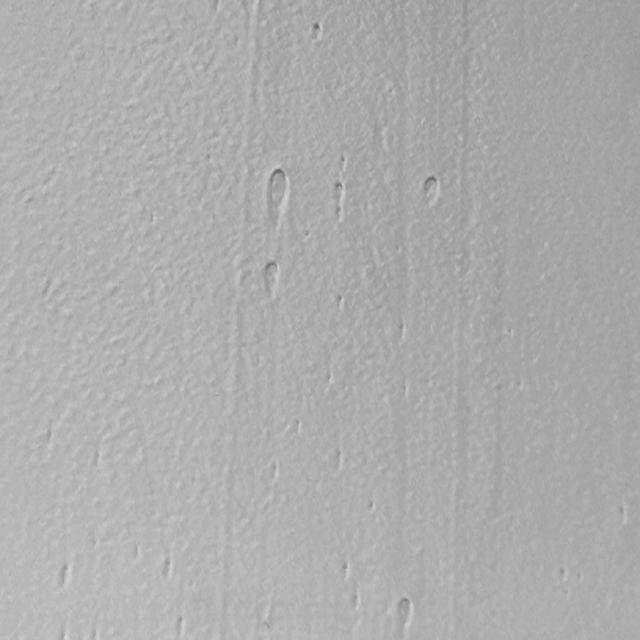pin holes: (264, 169, 291, 215), (392, 595, 415, 632), (260, 258, 282, 296), (326, 180, 346, 218), (420, 175, 443, 207), (55, 564, 75, 592), (615, 502, 634, 527), (330, 447, 348, 473), (158, 557, 176, 582), (266, 459, 282, 484), (173, 615, 191, 637), (310, 21, 324, 43), (348, 590, 362, 612), (340, 563, 353, 582), (556, 566, 569, 585), (337, 154, 348, 173), (398, 319, 406, 344), (334, 295, 346, 311), (368, 497, 376, 515)
